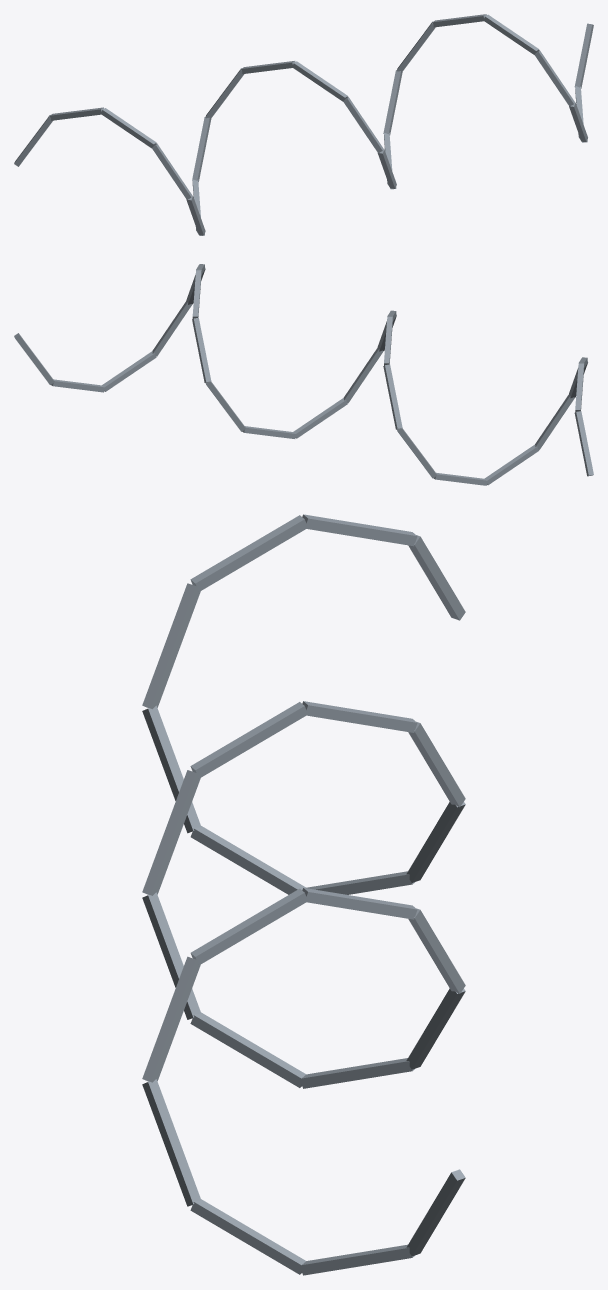
File: prop_concertina.fbx
3 renders of one model, top to bottom at view 1: azimuth 30°, elevation 25°; view 2: azimuth 150°, elevation 25°; view 3: azimuth 270°, elevation 25°, orthographic. The views are drawn at different scales.
Visible parts, largest first — view 1: prop_concertina; view 2: prop_concertina; view 3: prop_concertina.
Part boxes in pixels (x1,y1,x2,y2): prop_concertina: [14, 14, 593, 235]; prop_concertina: [14, 264, 593, 485]; prop_concertina: [142, 514, 465, 1275].
Size of the model in its own units: 1213 by 289 by 293.
